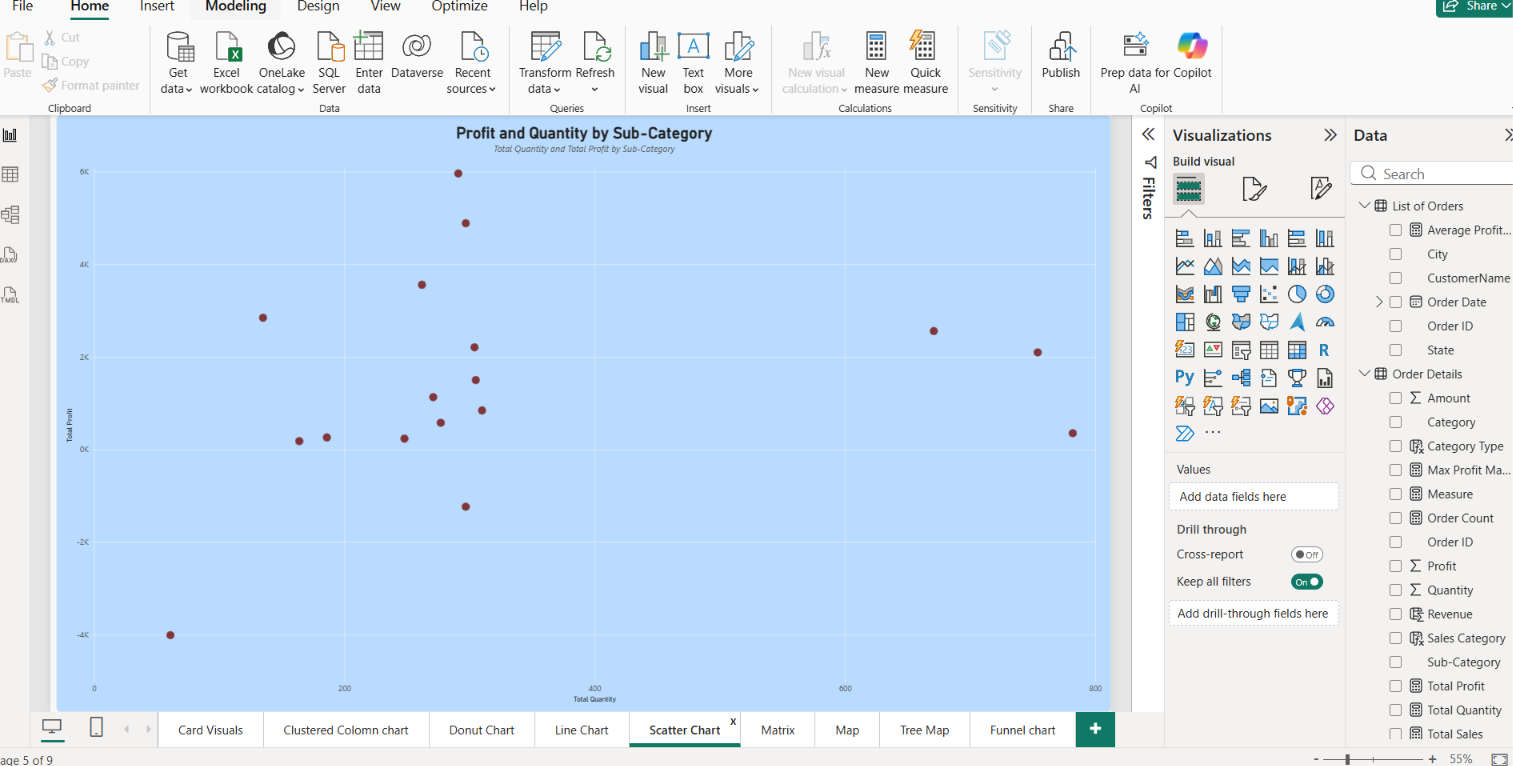

Layout of this report page (visuals, bound fields, positions):
{"tool":"powerbi","page":{"name":"Scatter Chart","canvas":[1920,1080],"ordinal":4},"visuals":[{"type":"scatterChart","title":"Profit and Quantity by Sub-Category","fields":{"Category":["Order Details.Sub-Category"],"X":["Order Details.Total Quantity"],"Y":["Order Details.Total Profit"]},"box":[10.9,0,1909.2,1080.4],"z":0}]}

Visuals, with their boxes on the page's 1920x1080 design canvas (x1, y1, x2, y2). These are canvas units, not pixel positions in the 1513x766 screenshot, which may show the page scaled, cropped or inside an application window:
"Profit and Quantity by Sub-Category" scatterChart: <bbox>11, 0, 1920, 1080</bbox>
